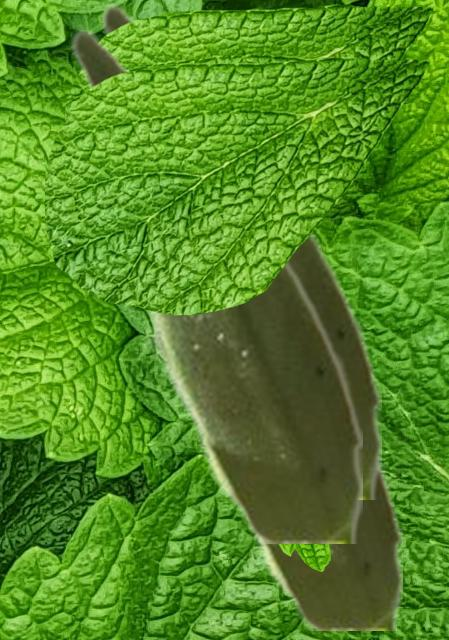okra: (69, 26, 361, 542), (99, 1, 380, 498), (249, 451, 401, 629)
